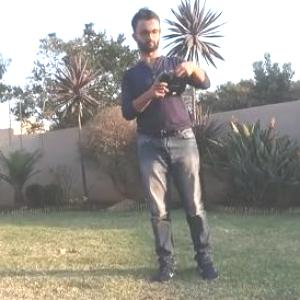follow: (112, 0, 223, 286)
